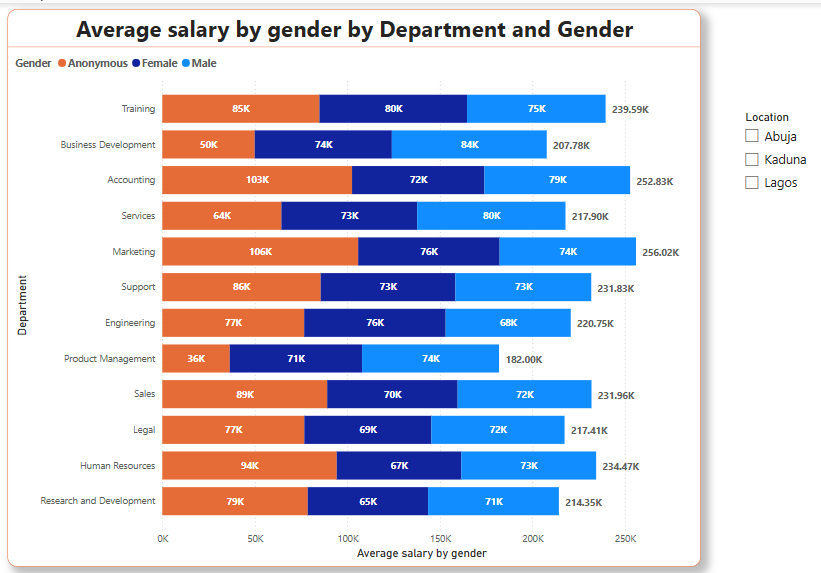

What the dashboard file says about the page in this screenshot:
{"tool":"powerbi","page":{"name":"Page 7","canvas":[1280,720],"ordinal":6},"visuals":[{"type":"barChart","fields":{"Category":["Palmoria Group emp-data.Department"],"Y":["Palmoria Group emp-data.Average salary by gender"],"Series":["Palmoria Group emp-data.Gender"]},"box":[13.2,7.6,873.1,703],"z":0},{"type":"slicer","fields":{"Values":["Palmoria Group emp-data.Location"]},"box":[929.8,130.4,351.5,145.5],"z":1000}]}

Visuals, with their boxes on the page's 1280x720 design canvas (x1, y1, x2, y2). These are canvas units, not pixel positions in the 821x573 screenshot, which may show the page scaled, cropped or inside an application window:
barChart - Palmoria Group emp-data.Department x Palmoria Group emp-data.Average salary by gender: box(13, 8, 886, 711)
slicer - Palmoria Group emp-data.Location: box(930, 130, 1281, 276)
